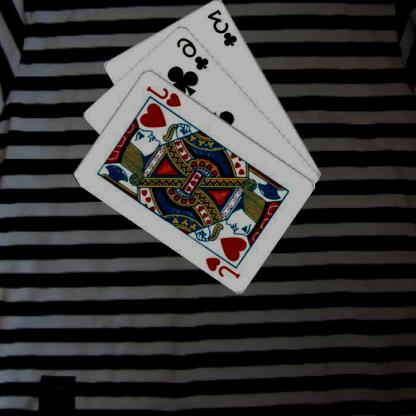3C: (207, 6, 240, 47)
6C: (176, 34, 212, 71)
JH: (204, 254, 244, 279), (146, 83, 184, 108)
